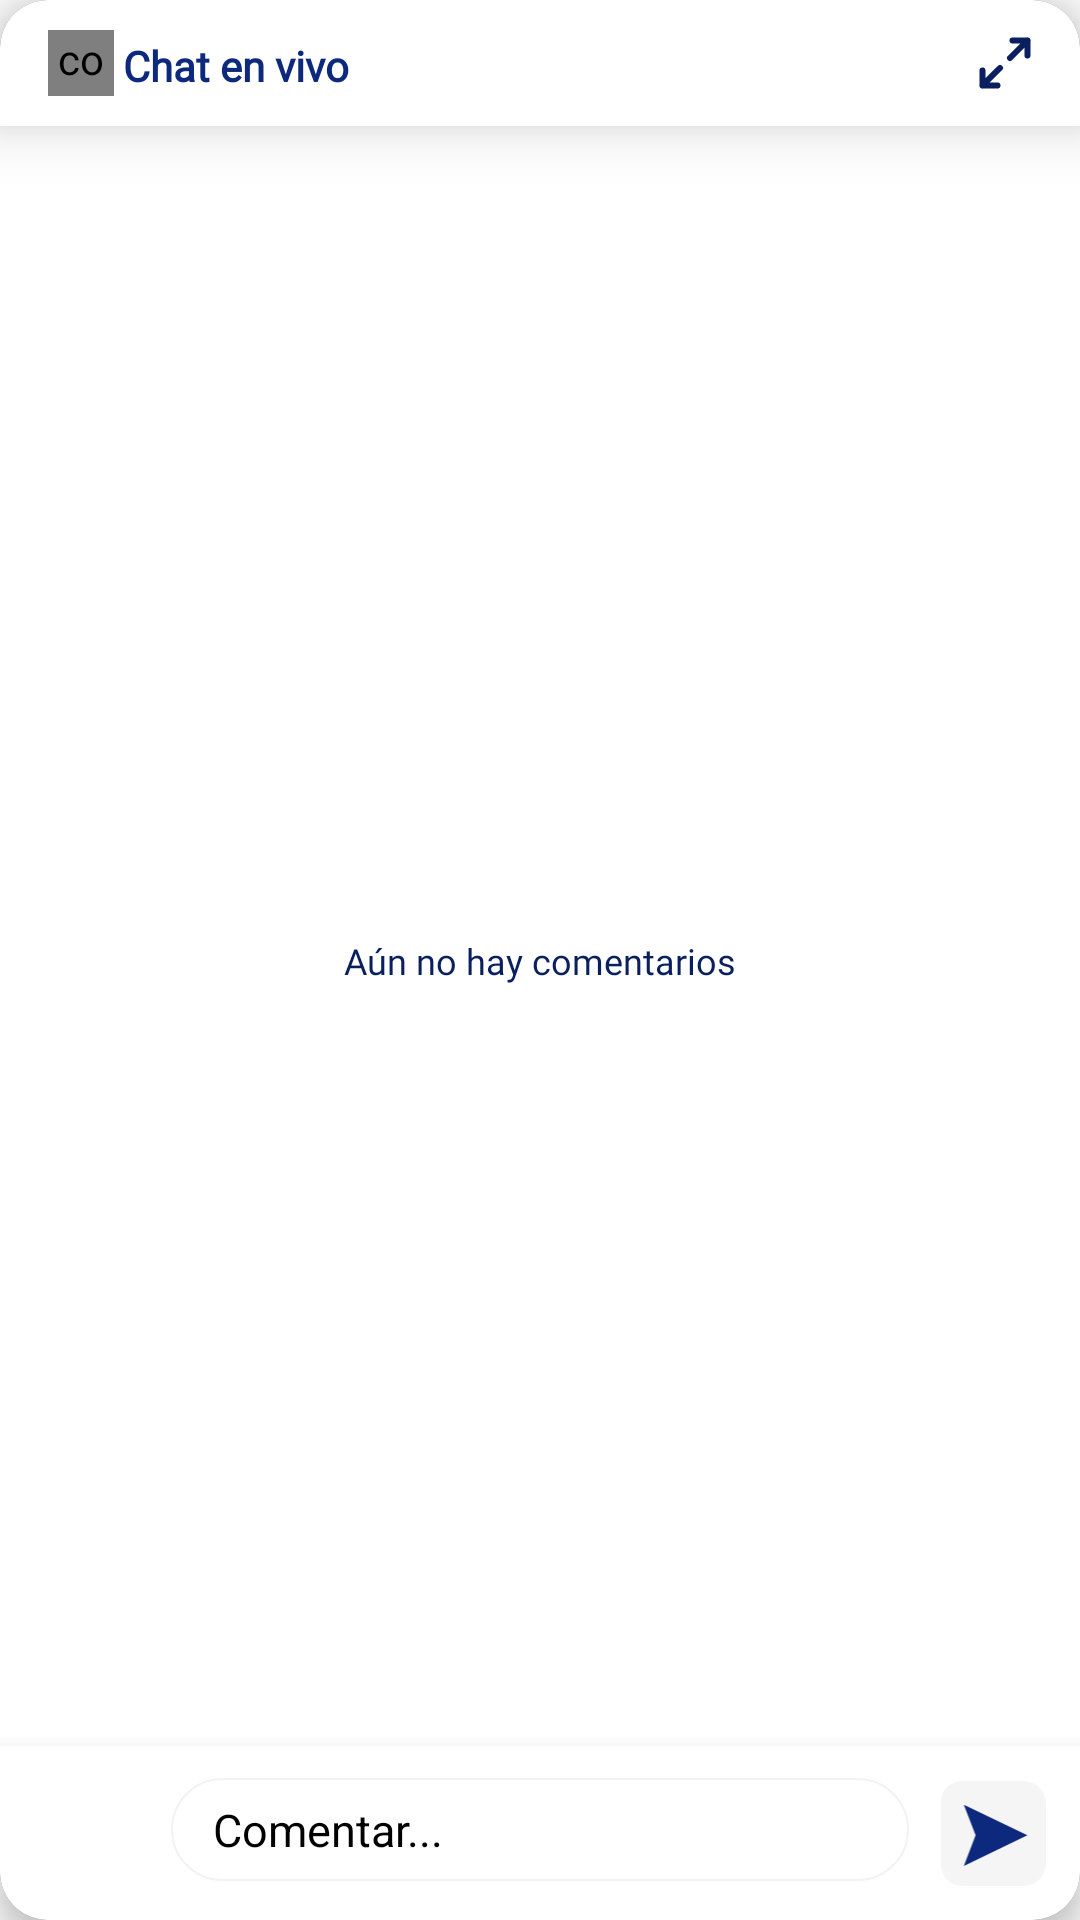

Screen size 1080 × 1920. Icon name, then its box in pixels as detection(x1, y1, x2, y2):
expand: detection(979, 37, 1031, 89)
